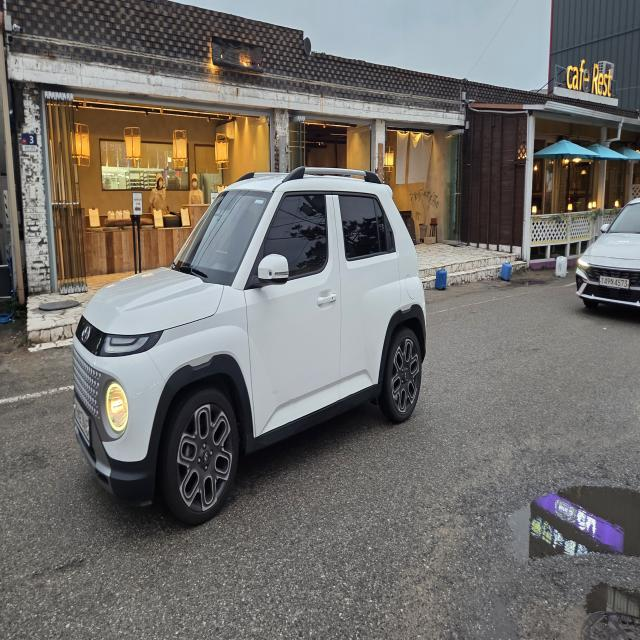car: (65, 147, 442, 528), (573, 174, 640, 338)
